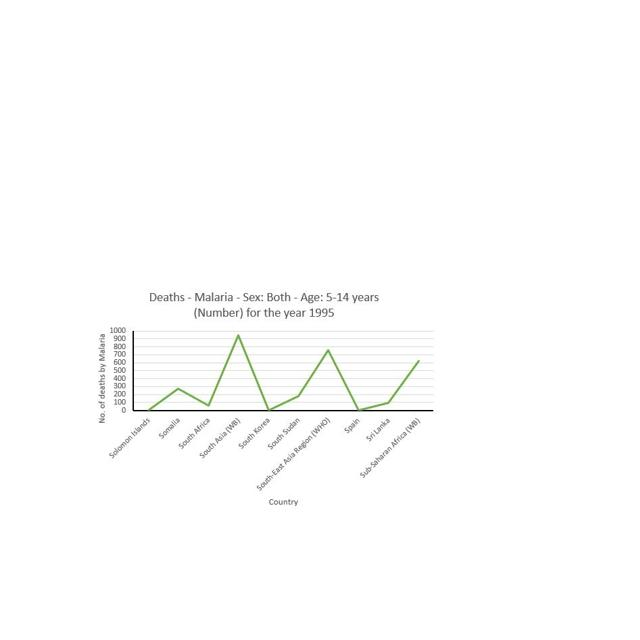Graph: (92, 289, 438, 510)
